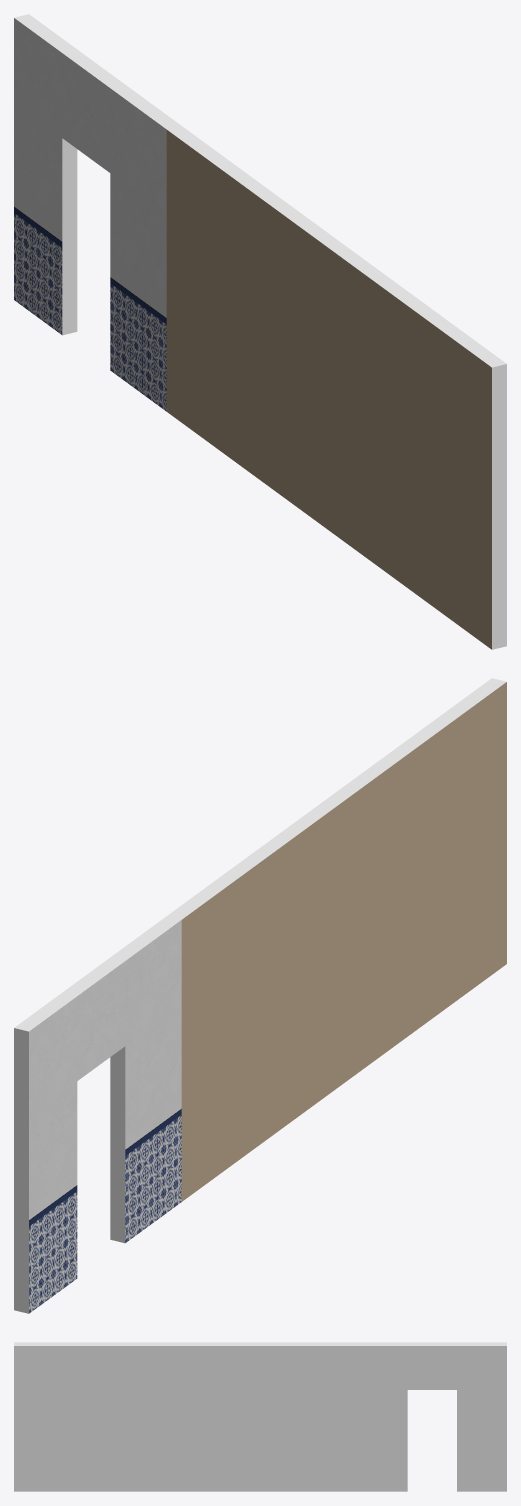
File: Wall 2.FBX
3 renders of one model, top to bottom at view 1: azimuth 30°, elevation 25°; view 2: azimuth 150°, elevation 25°; view 3: azimuth 270°, elevation 25°, orthographic. The views are drawn at different scales.
Parts seen in each view (by area): view 1: Wall 2; view 2: Wall 2; view 3: Wall 2.
Boxes of the visible parts, bbox=[...] form: Wall 2: bbox=[14, 14, 506, 649]; Wall 2: bbox=[14, 678, 506, 1313]; Wall 2: bbox=[14, 1342, 506, 1491].
Bounding box in the file's own units: 16.27 × 293 × 898.
Materials: 3 (1 with a texture image).
